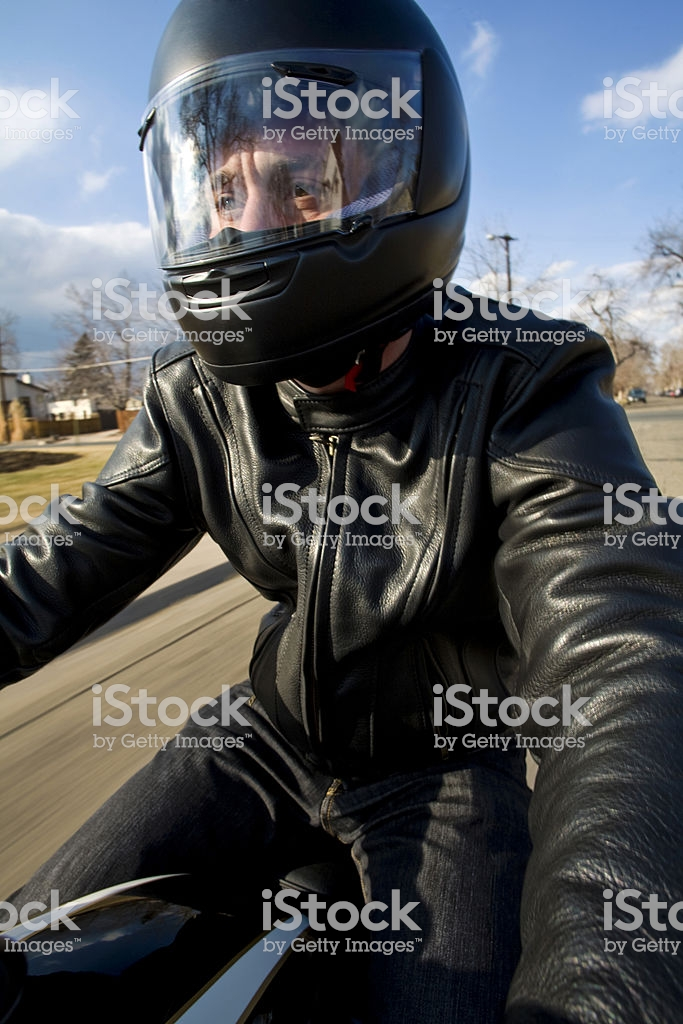helmet: (147, 15, 497, 361)
